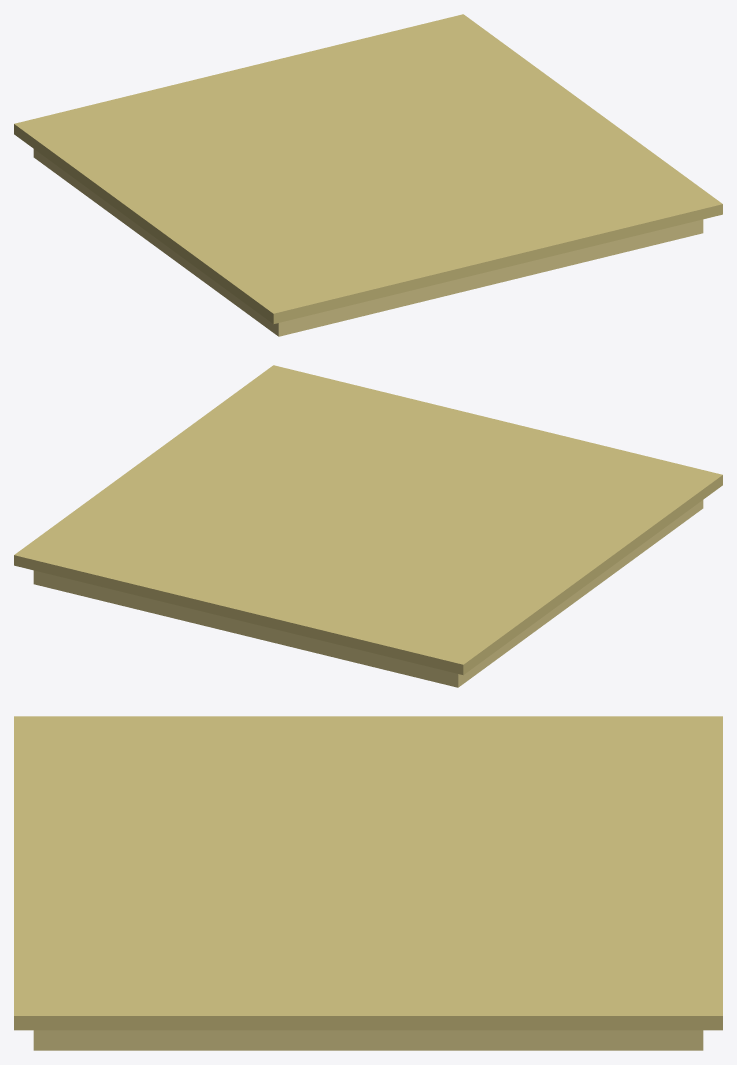
The model's file is spawn_pad_01.glb.
3 views of the same model, one above another, from view 1: azimuth 30°, elevation 25°; view 2: azimuth 150°, elevation 25°; view 3: azimuth 270°, elevation 25° (orthographic). The views are drawn at different scales.
Visible parts, largest first — view 1: spawn_pad_01; view 2: spawn_pad_01; view 3: spawn_pad_01.
Part boxes in pixels (x1,y1,x2,y2): spawn_pad_01: (14,14,722,336); spawn_pad_01: (14,365,722,687); spawn_pad_01: (14,716,722,1050).
Bounding box in the file's own units: 1.8 × 0.12 × 1.8.
